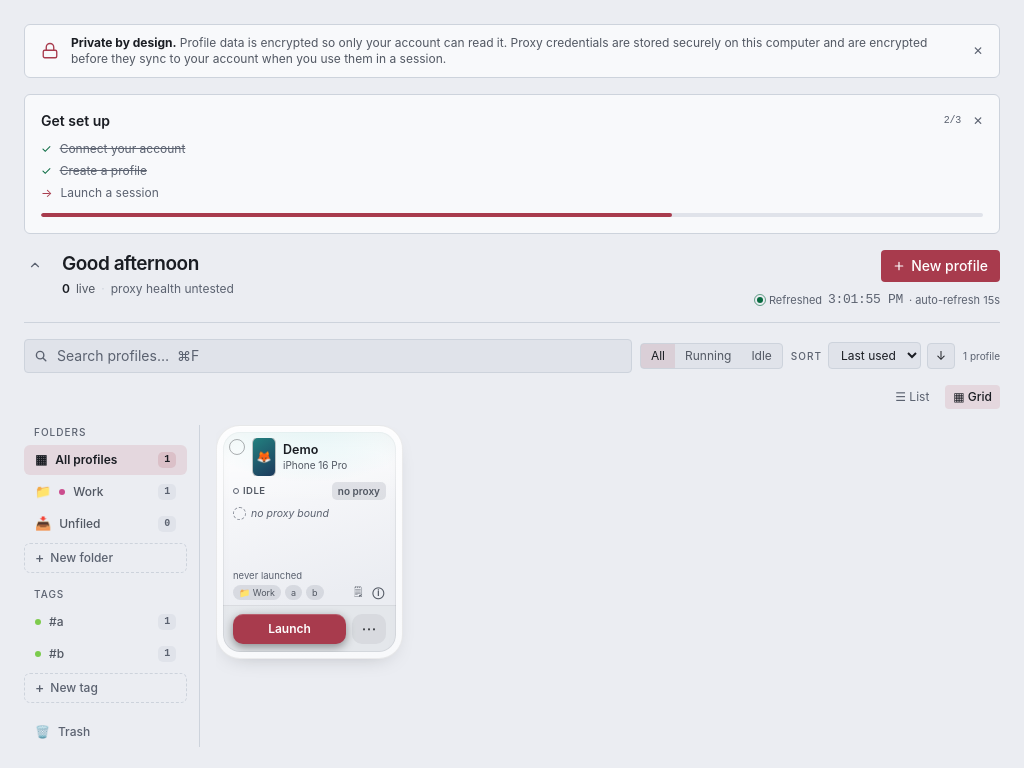
Test: ProfilesView profile-lifecycle actions › Edit › does not offer an archetype field (archetype is immutable post-create)
Click the button named "More actions" at (369, 628), box 352,614 -> 386,644
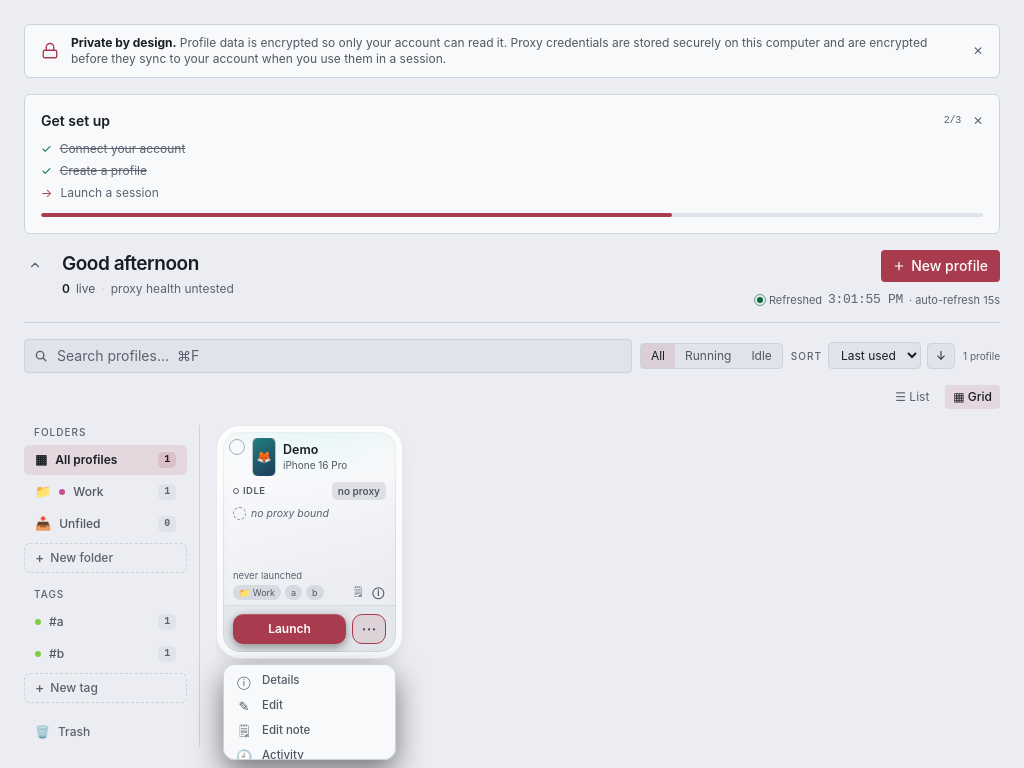
Click the button with aria-label "Edit Demo" at (310, 706), box 224,694 -> 395,718
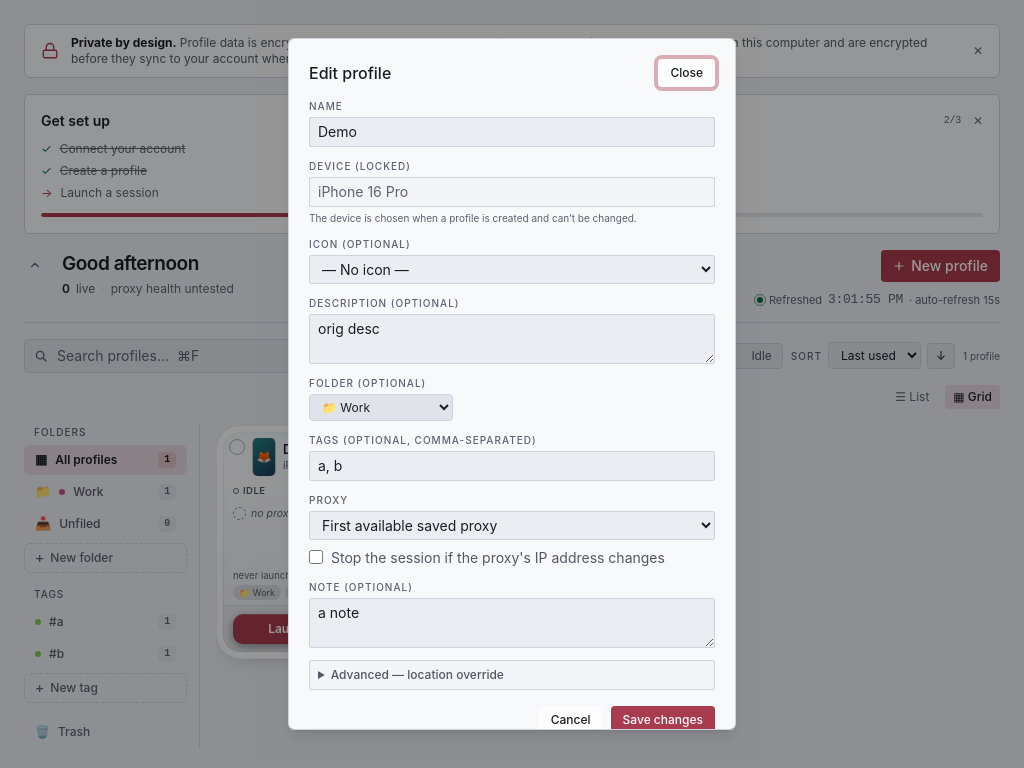
Check: the heading "Edit profile" is shown, box 309,61 -> 391,85
